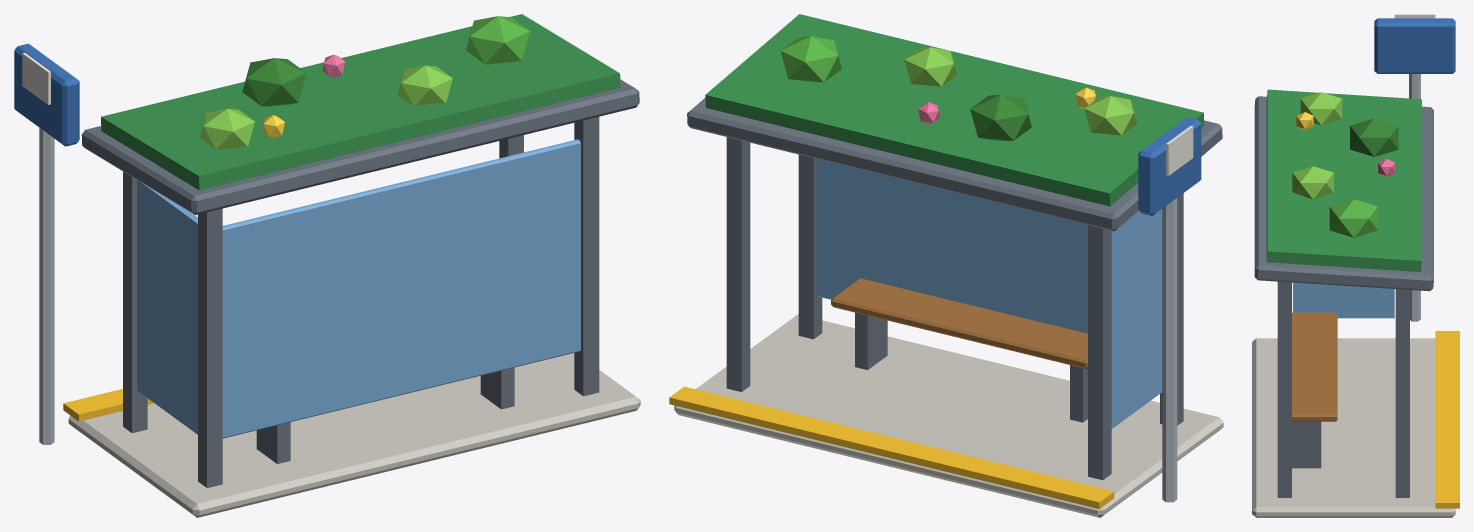
File: ponto_onibus.glb
The picture shows the model from 3 angles, left to right: view 1: azimuth 30°, elevation 25°; view 2: azimuth 150°, elevation 25°; view 3: azimuth 270°, elevation 25°; orthographic projection. The views are drawn at different scales.
Parts seen in each view (by area): view 1: corpo; view 2: corpo; view 3: corpo.
Boxes of the visible parts, left/top/right/bottom form: corpo: left=14, top=14, right=640, bottom=517; corpo: left=669, top=14, right=1223, bottom=517; corpo: left=1252, top=14, right=1459, bottom=517.
Bounding box in the file's own units: 1.13 × 0.845 × 0.51.
